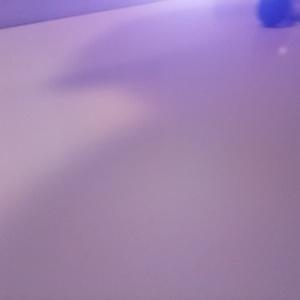alive_ball: (289, 1, 300, 21)
dead_ball: (257, 1, 291, 26)
